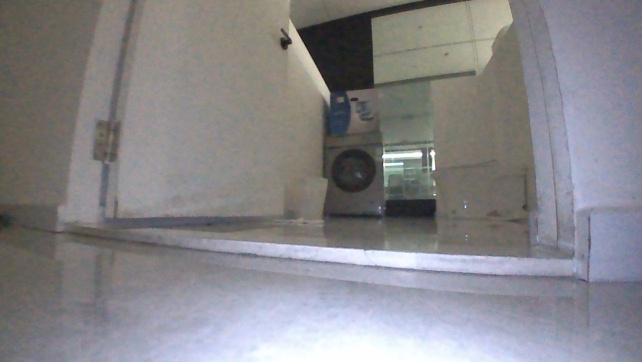door_anno: (101, 1, 293, 225)
shoe: (478, 202, 526, 221)
socks: (275, 214, 326, 225)
toilet: (426, 156, 531, 224)
trash_can: (281, 165, 330, 224)
washing_machine: (318, 127, 389, 222)
